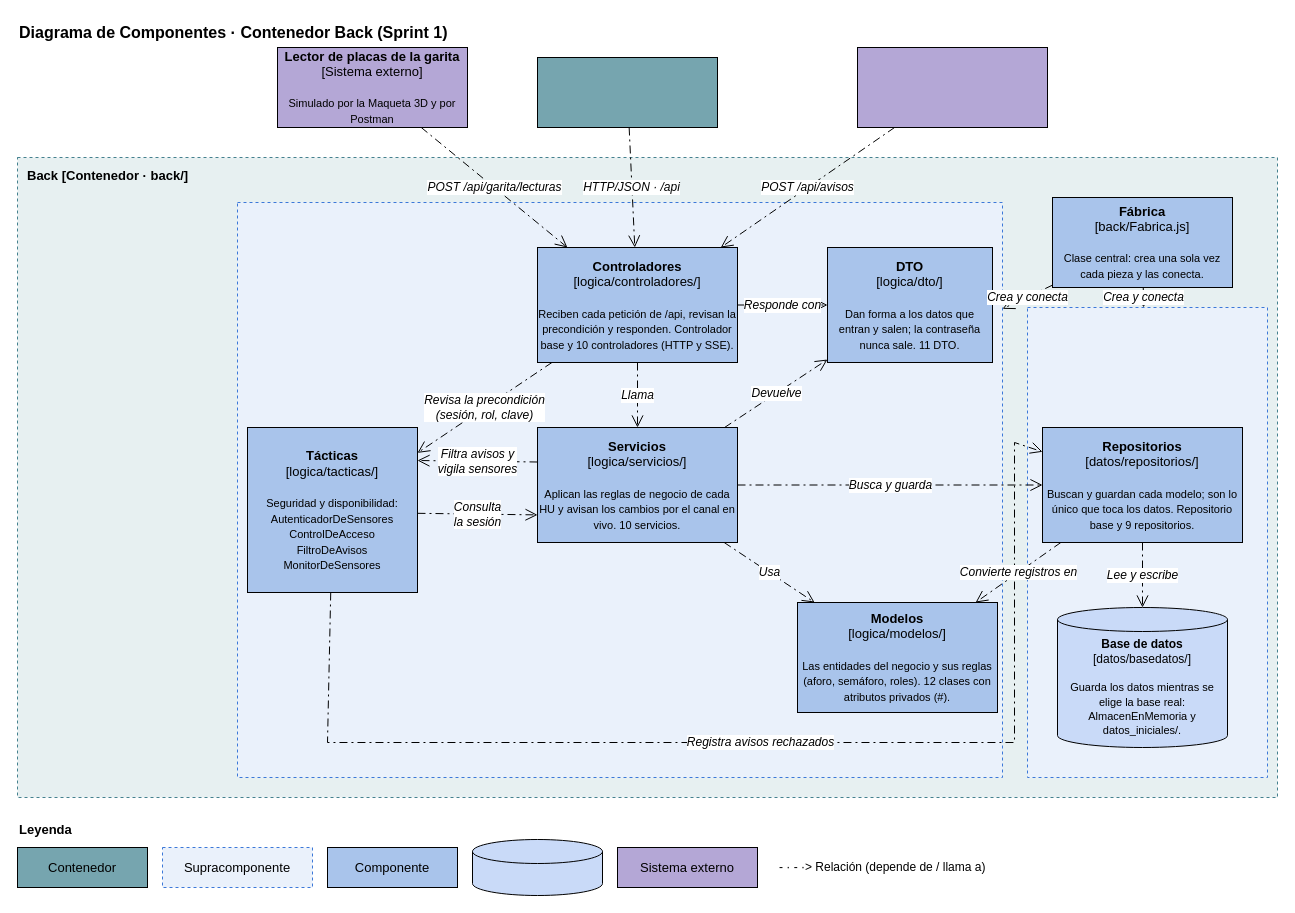
This 1295x913 diagram has some shape labels left out. Here are the shapes that lost their labels. From the top down, the box of each, then its label:
(536, 56, 718, 128): Front [Contenedor · front/]
(856, 46, 1048, 128): Sensores de acceso [Sistema externo] Simulados por la Maqueta 3D y por Postman
(236, 202, 1002, 778): Supracomponente: Lógica de negocio [back/logica/]
(1026, 306, 1268, 778): Supracomponente: Acceso a datos [back/datos/]
(472, 838, 602, 896): Base de datos
